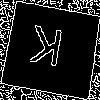K: (26, 24, 65, 77)
